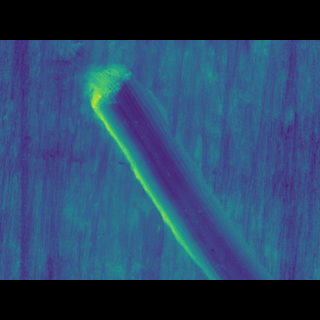Loch: (74, 84, 277, 251)
